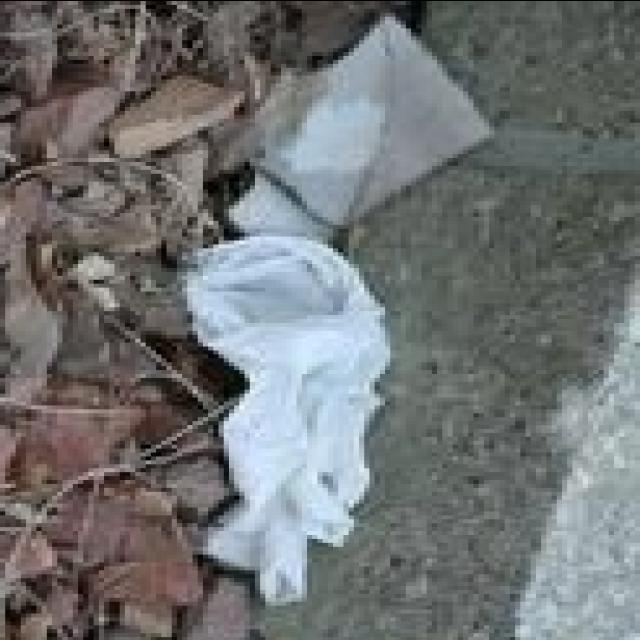b3: (158, 215, 516, 628)
